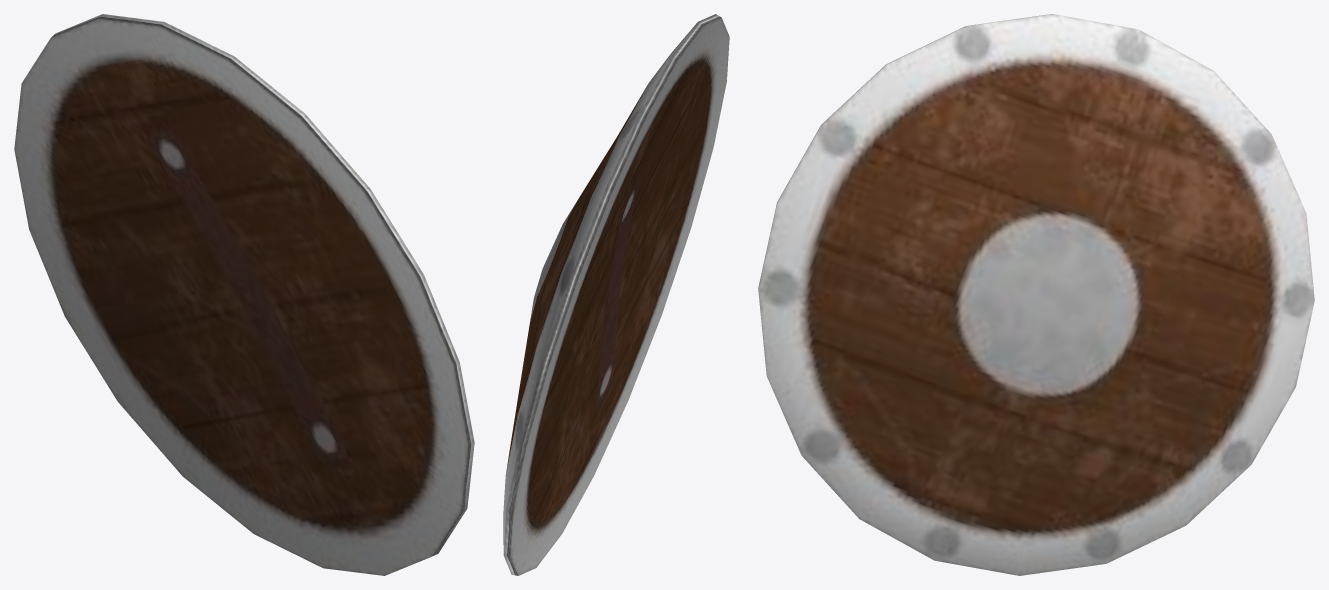
Rendered from shield-coppershields.glb.
3 renders of one model, left to right at view 1: azimuth 30°, elevation 25°; view 2: azimuth 150°, elevation 25°; view 3: azimuth 270°, elevation 25°, orthographic. The views are drawn at different scales.
Size of the model in its own units: 0.1819 by 0.5153 by 0.5201.
1 material, 1 textured.
